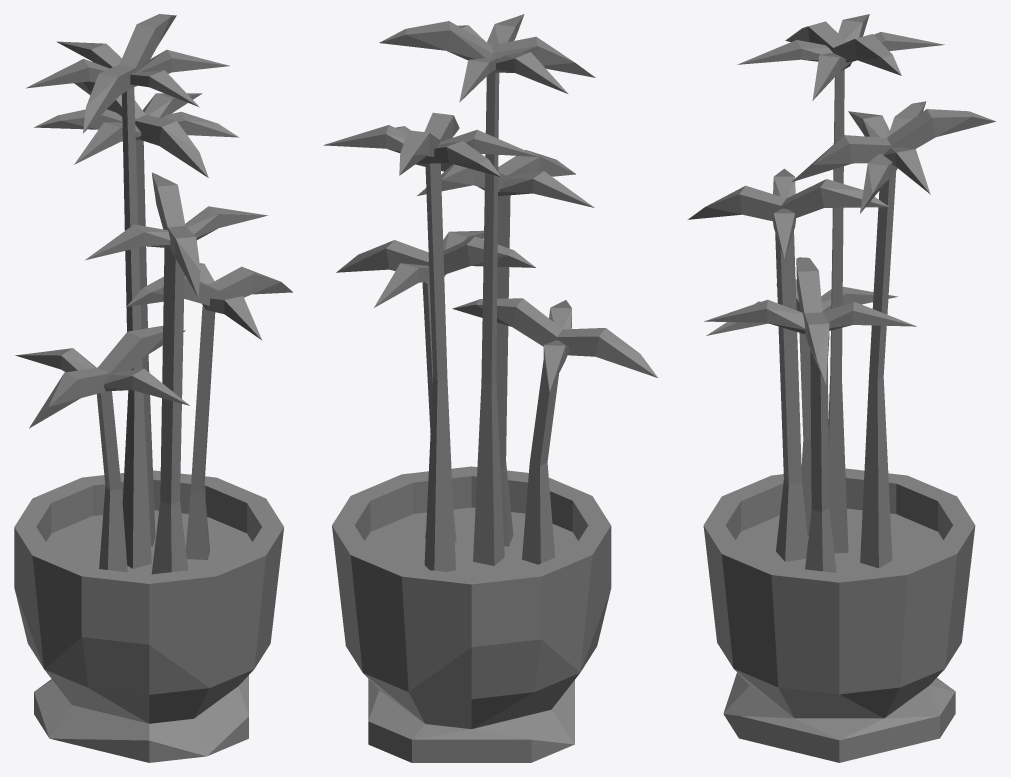
Rendered from SM_Prop_PotPlant_02.obj.
3 views of the same model, side by side, from view 1: azimuth 30°, elevation 25°; view 2: azimuth 150°, elevation 25°; view 3: azimuth 270°, elevation 25° (orthographic). The views are drawn at different scales.
Visible parts, largest first — view 1: SM_Prop_PotPlant_02_Mat_PolygonCity_Texture_01_A; view 2: SM_Prop_PotPlant_02_Mat_PolygonCity_Texture_01_A; view 3: SM_Prop_PotPlant_02_Mat_PolygonCity_Texture_01_A.
Boxes of the visible parts, bbox=[...] form: SM_Prop_PotPlant_02_Mat_PolygonCity_Texture_01_A: bbox=[14, 14, 292, 762]; SM_Prop_PotPlant_02_Mat_PolygonCity_Texture_01_A: bbox=[323, 14, 657, 762]; SM_Prop_PotPlant_02_Mat_PolygonCity_Texture_01_A: bbox=[687, 14, 995, 762].
Size of the model in its own units: 0.6937 by 1.56 by 0.6392.
Materials: 1 (1 with a texture image).
